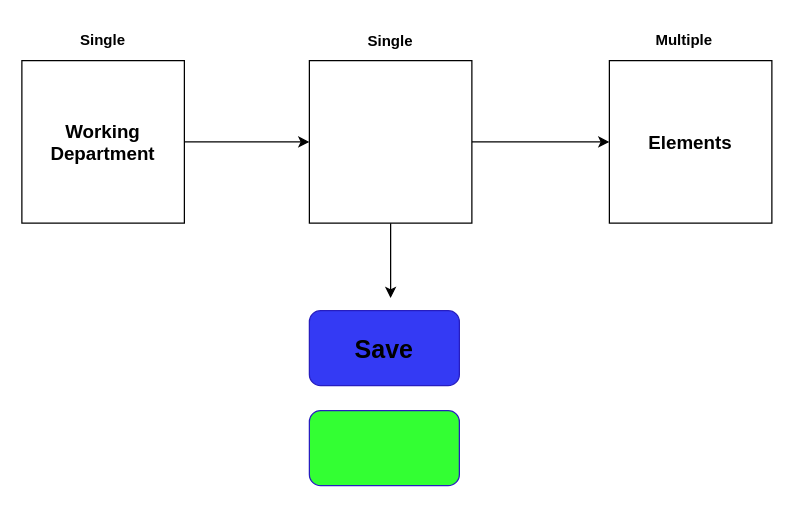
Image size: 794x508. Some labels were removed from this diagram. The box of each missing label's shape, as (x1, y1, x2, y2) in pixels:
Assigned Department: (308, 59, 472, 223)
Insert: (308, 409, 459, 486)
